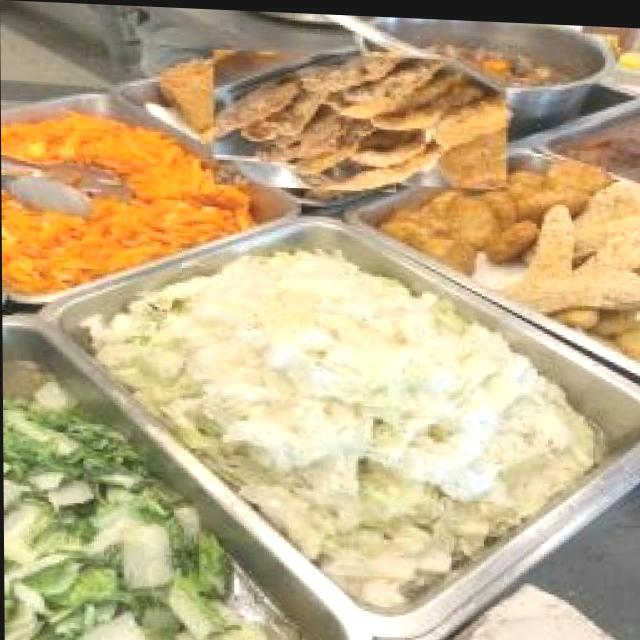carrot_eggs: (1, 125, 190, 270)
chinese_cabbage: (225, 298, 489, 485)
fried_chicken: (213, 44, 507, 193)
triangle_hash_brown: (396, 181, 536, 254)
